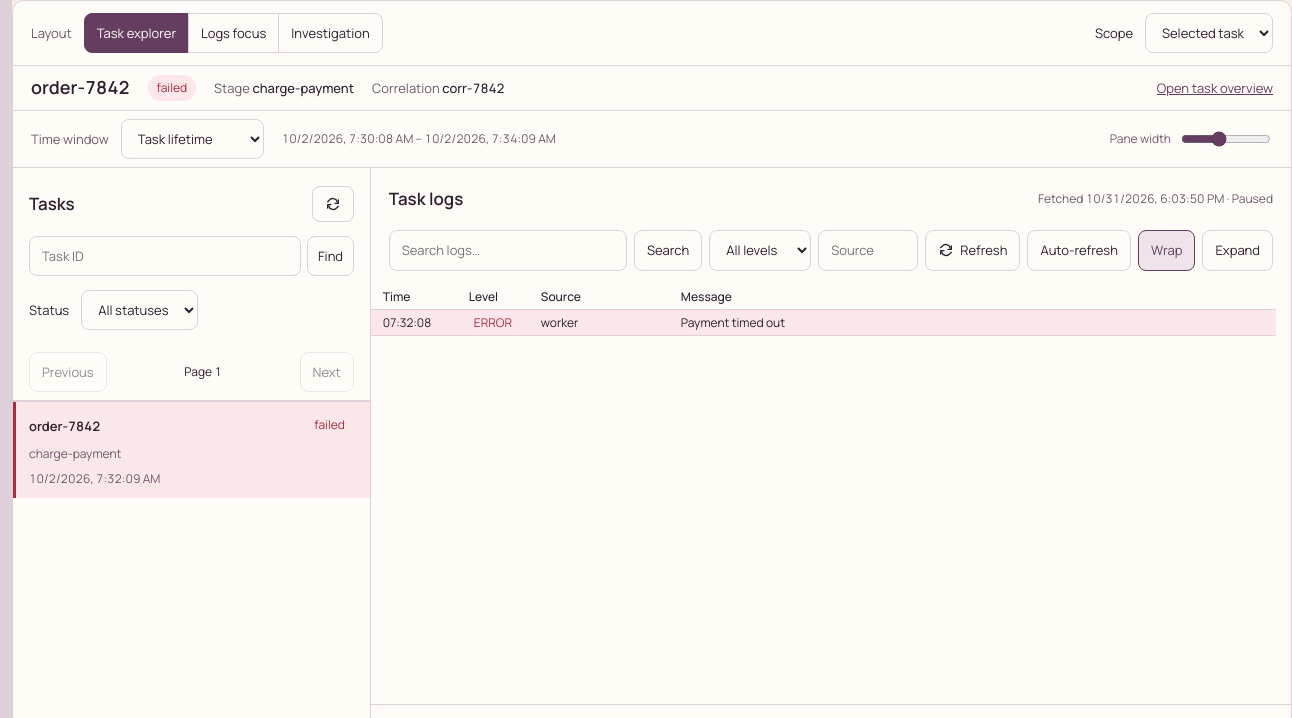
Test: pauses polling, refreshes manually, and retains evidence on refresh failure
The image size is (1292, 718).
Expected: the text "Payment timed out" is shown, [669, 309, 1276, 336]
Click the button "Auto-refresh". click: click(1079, 250)
box: [1027, 230, 1131, 270]
Wait 5000 ms
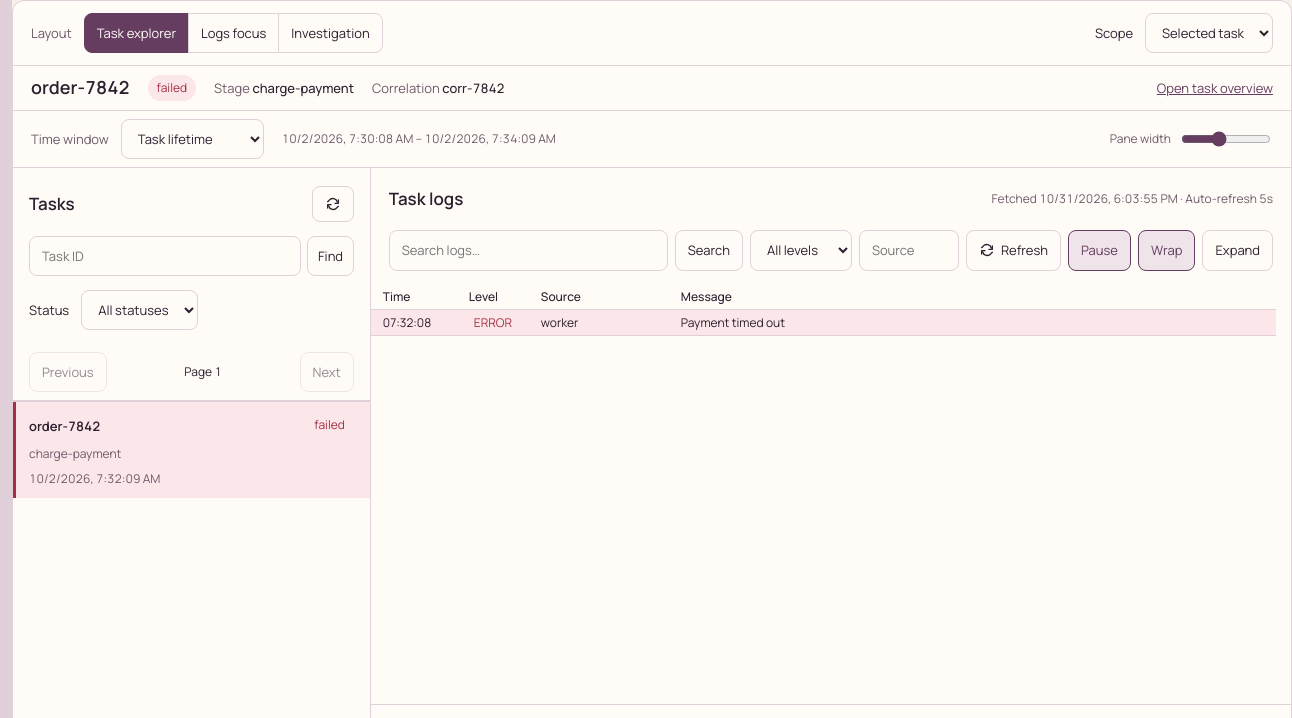
Click the button "Pause". click: click(1099, 250)
box: [1068, 230, 1131, 270]
Wait 10000 ms
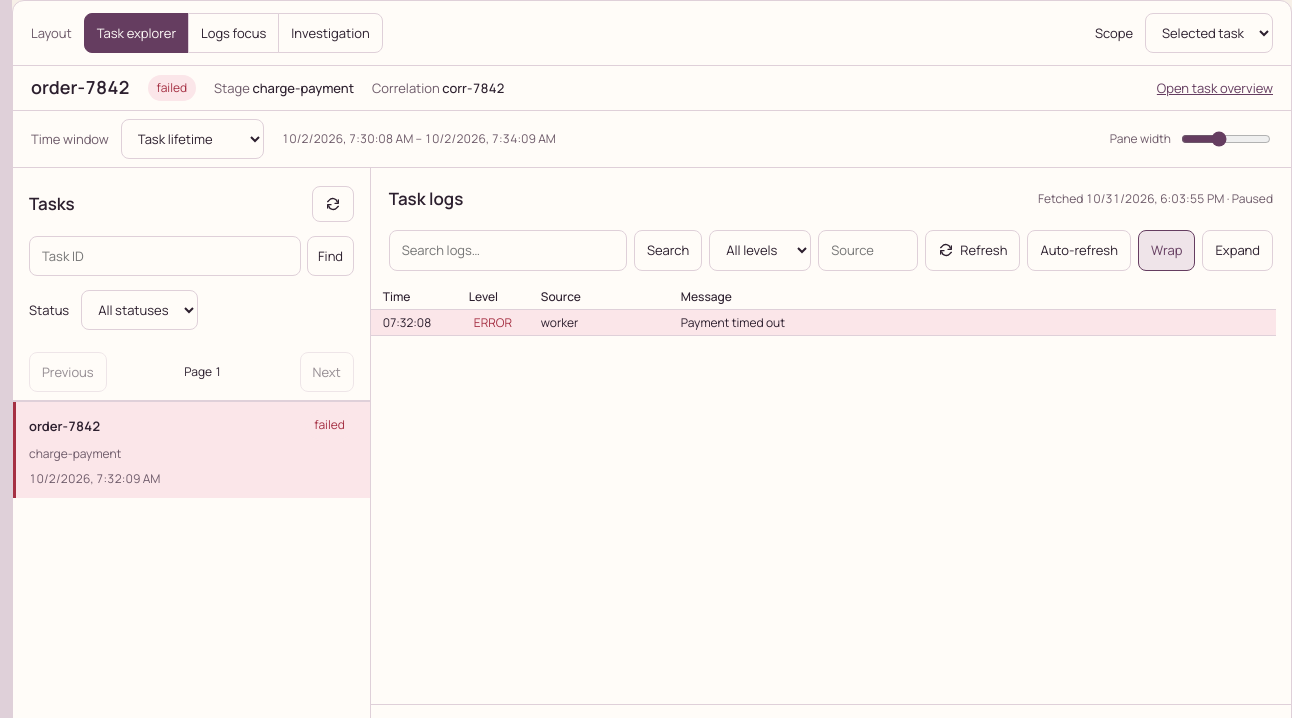
Click the button "Refresh". click: click(973, 250)
box: [925, 230, 1020, 270]
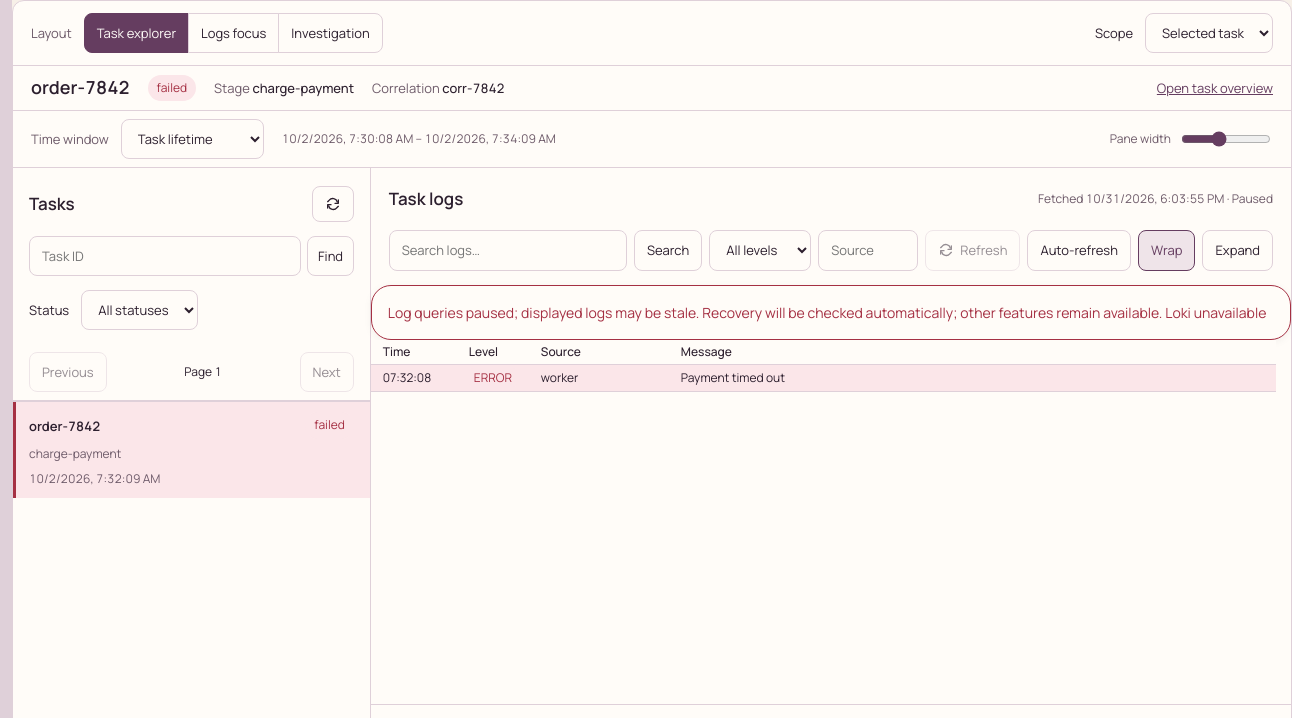
Expected: the text "Payment timed out" is shown, [669, 365, 1276, 392]
Expected: the text "Log queries paused" shows "Loki unavailable", [1165, 302, 1266, 322]
